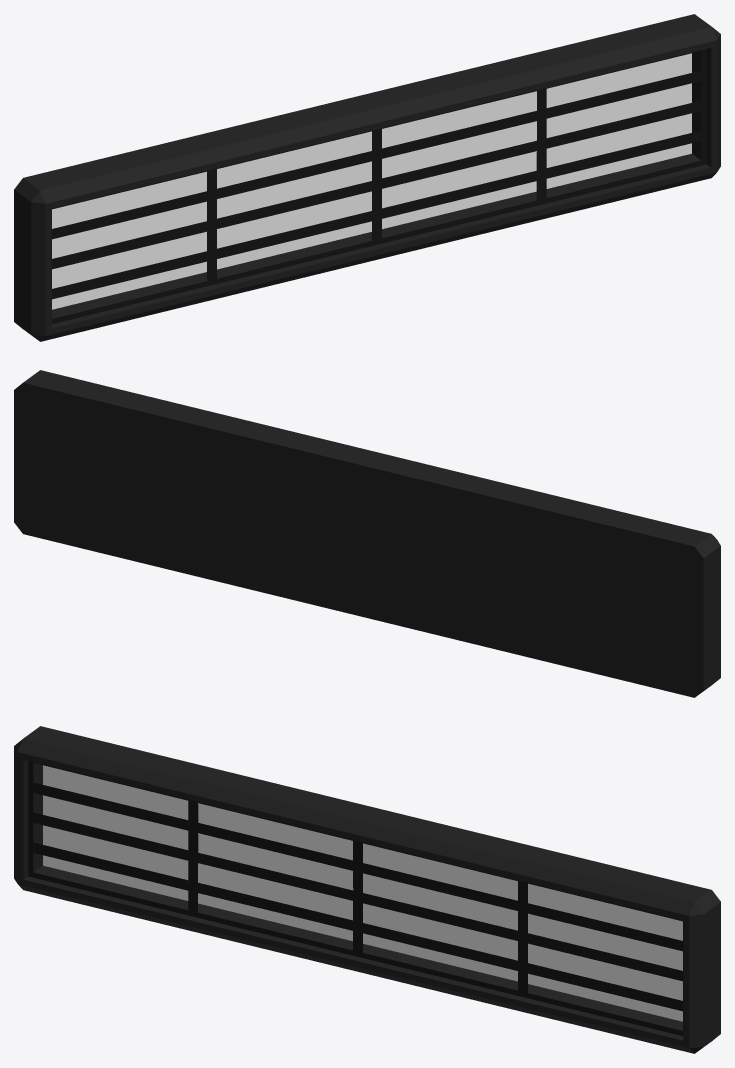
Rendered from 1 Light.fbx.
The picture shows the model from 3 angles, top to bottom: view 1: azimuth 30°, elevation 25°; view 2: azimuth 150°, elevation 25°; view 3: azimuth 330°, elevation 25°; orthographic projection.
Parts seen in each view (by area): view 1: single light; view 2: single light; view 3: single light.
Boxes of the visible parts, left/top/right/bottom form: single light: left=14, top=14, right=720, bottom=341; single light: left=14, top=370, right=720, bottom=697; single light: left=14, top=726, right=720, bottom=1053.
Bounding box in the file's own units: 111 × 23.24 × 6.28.
